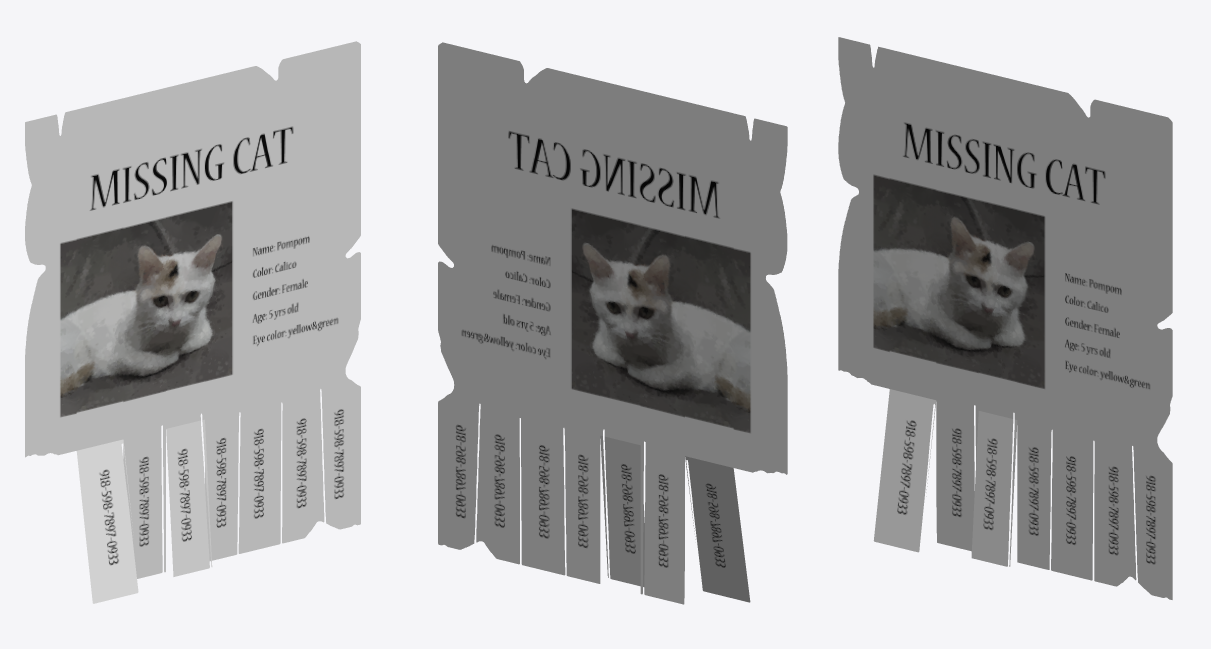
Rendered from Poster3.fbx.
3 renders of one model, left to right at view 1: azimuth 30°, elevation 25°; view 2: azimuth 150°, elevation 25°; view 3: azimuth 330°, elevation 25°, orthographic. The views are drawn at different scales.
Parts seen in each view (by area): view 1: Missing_Cat_poster; view 2: Missing_Cat_poster; view 3: Missing_Cat_poster.
Boxes of the visible parts, x1,y1,x2,y2 form: Missing_Cat_poster: (25, 41, 360, 603); Missing_Cat_poster: (438, 42, 787, 604); Missing_Cat_poster: (838, 37, 1172, 599).
Size of the model in its own units: 0.1457 by 0.2003 by 0.0132.
